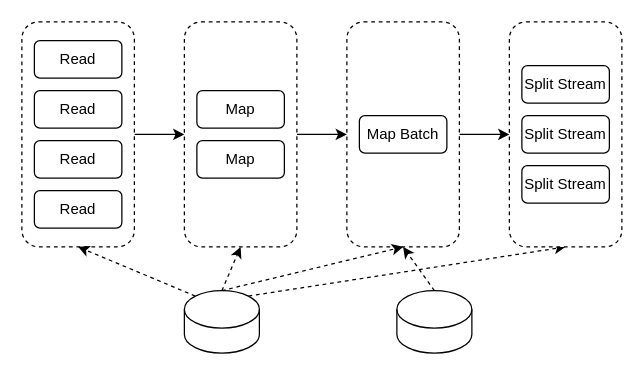
The diagram is 644 pixels wide and 375 high, and some of its shapes have lost their labels. Here are the shapes that lost their labels. From the top down, the centre of each, then its label:
At [221,321]: "CPU".
At [434,321]: "GPU".
